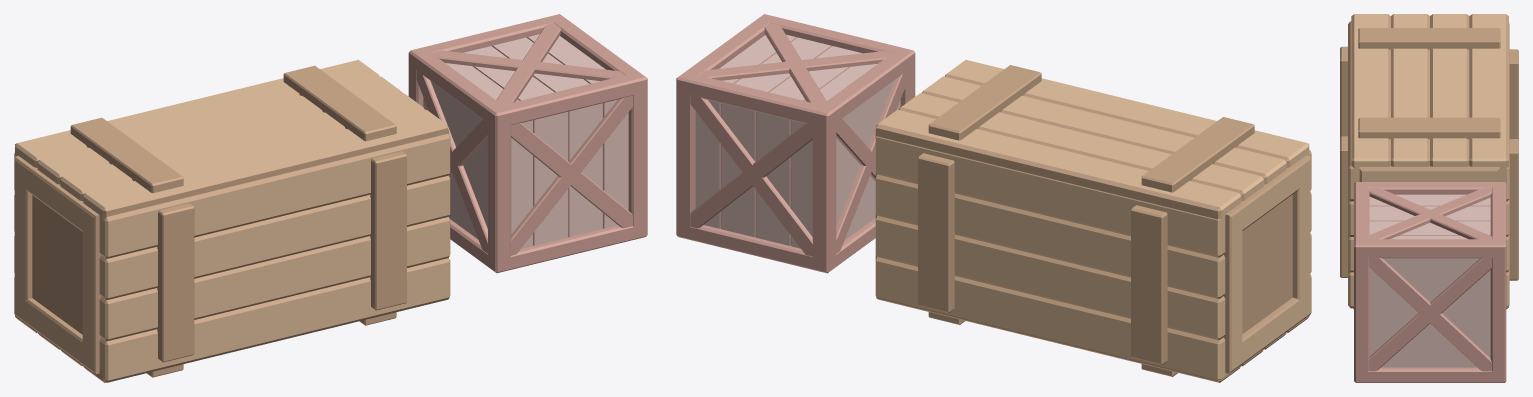
The model's file is WOODEN BOX.fbx.
The picture shows the model from 3 angles, left to right: view 1: azimuth 30°, elevation 25°; view 2: azimuth 150°, elevation 25°; view 3: azimuth 270°, elevation 25°; orthographic projection. The views are drawn at different scales.
Visible parts, largest first — view 1: wood_box_2, wood_box_1; view 2: wood_box_2, wood_box_1; view 3: wood_box_2, wood_box_1.
Part boxes in pixels (left/top/right/bottom): wood_box_2: left=14, top=60, right=450, bottom=382; wood_box_1: left=408, top=14, right=647, bottom=273; wood_box_2: left=875, top=60, right=1311, bottom=382; wood_box_1: left=676, top=14, right=915, bottom=273; wood_box_2: left=1340, top=14, right=1518, bottom=308; wood_box_1: left=1354, top=182, right=1506, bottom=382.
Size of the model in its own units: 14.28 by 4.8 by 4.64.
